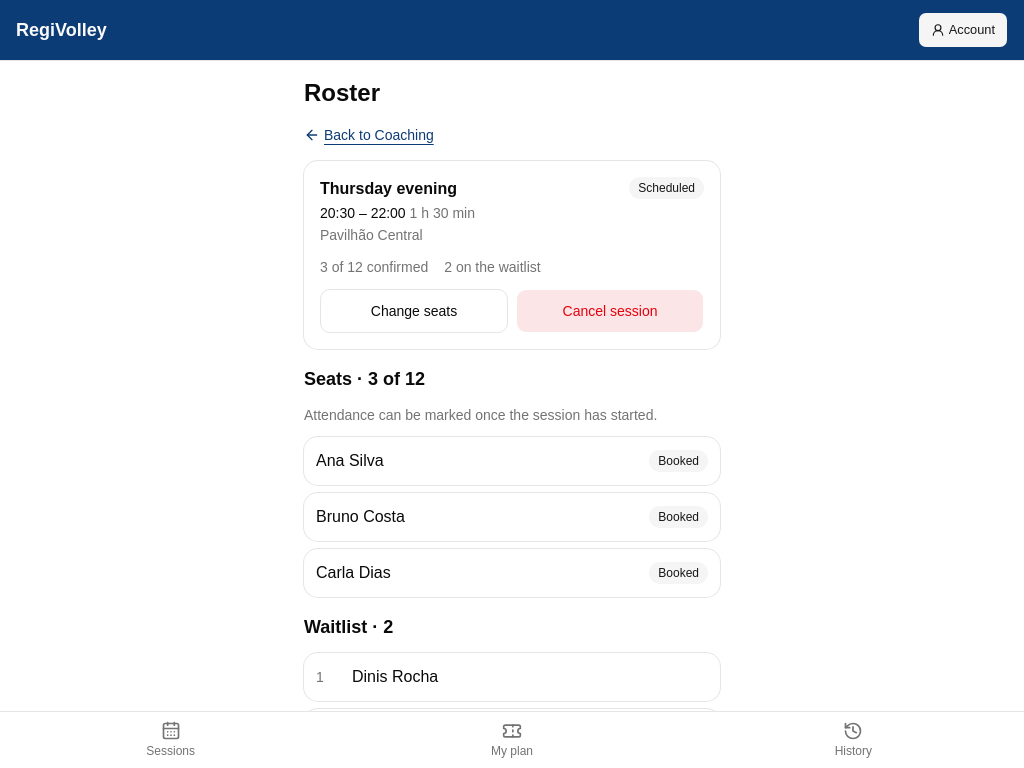
Scenario: staff actions from the roster › changes the seats and shows how many moved up
Click the button "Change seats" at (414, 311), box [320,289,508,333]
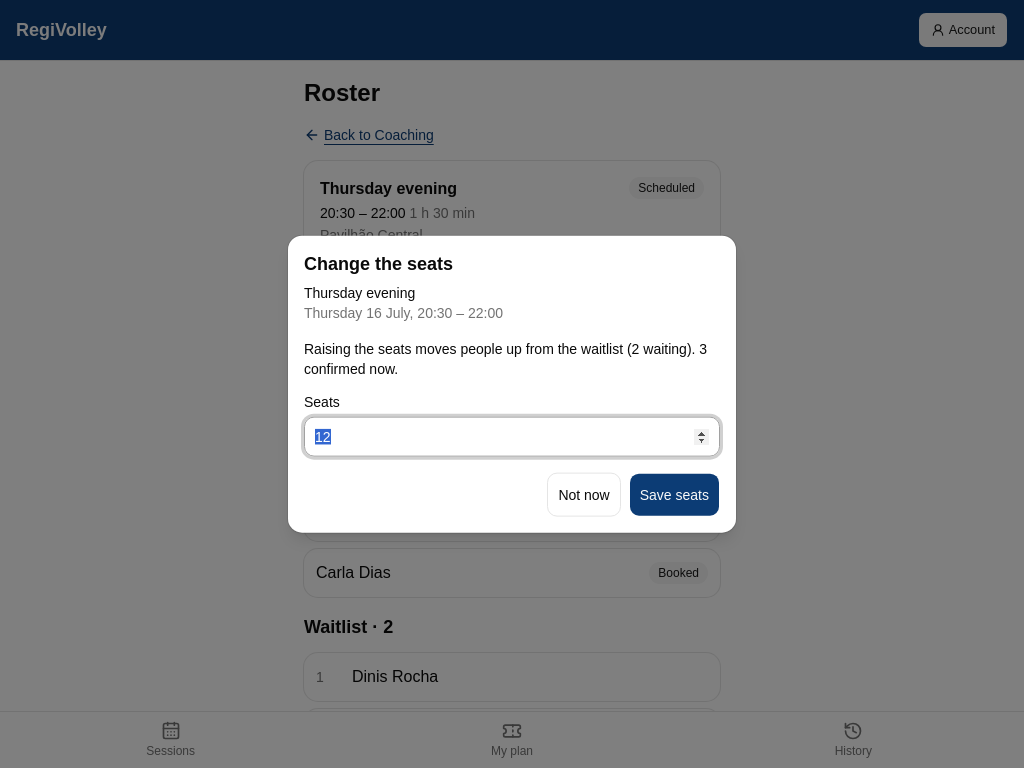
Replace the text in the number field labelled "Seats" with "14" at (512, 436), box [304,416,720,456]
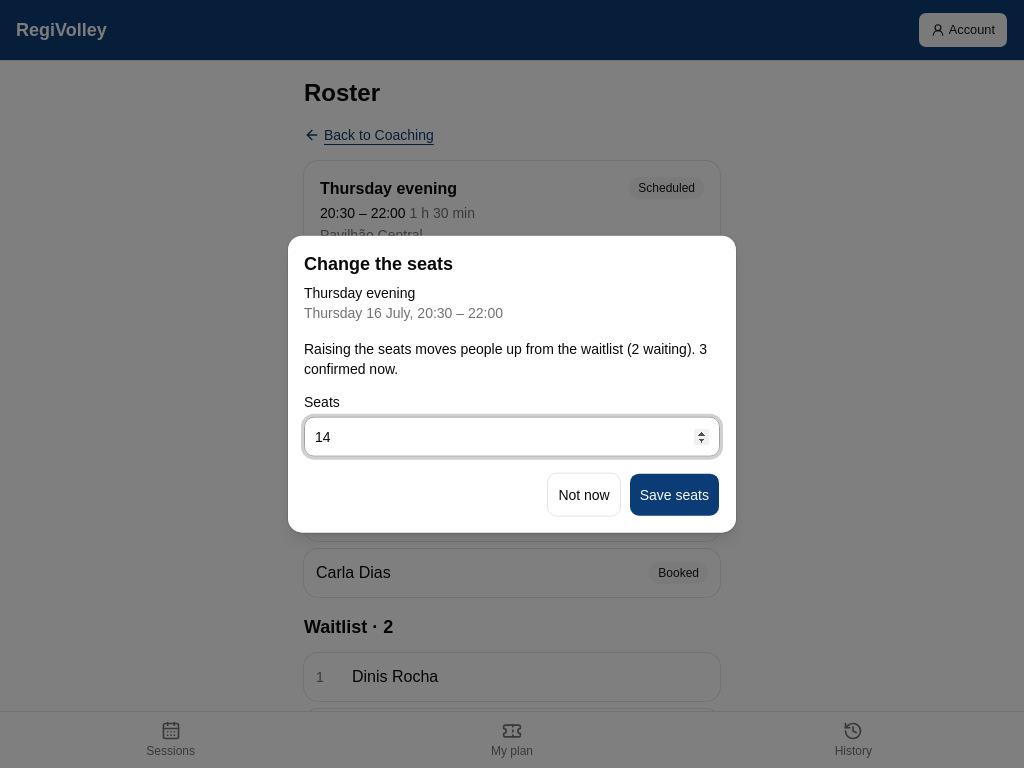
Click the button "Save seats" at (674, 494), box [629,472,720,516]
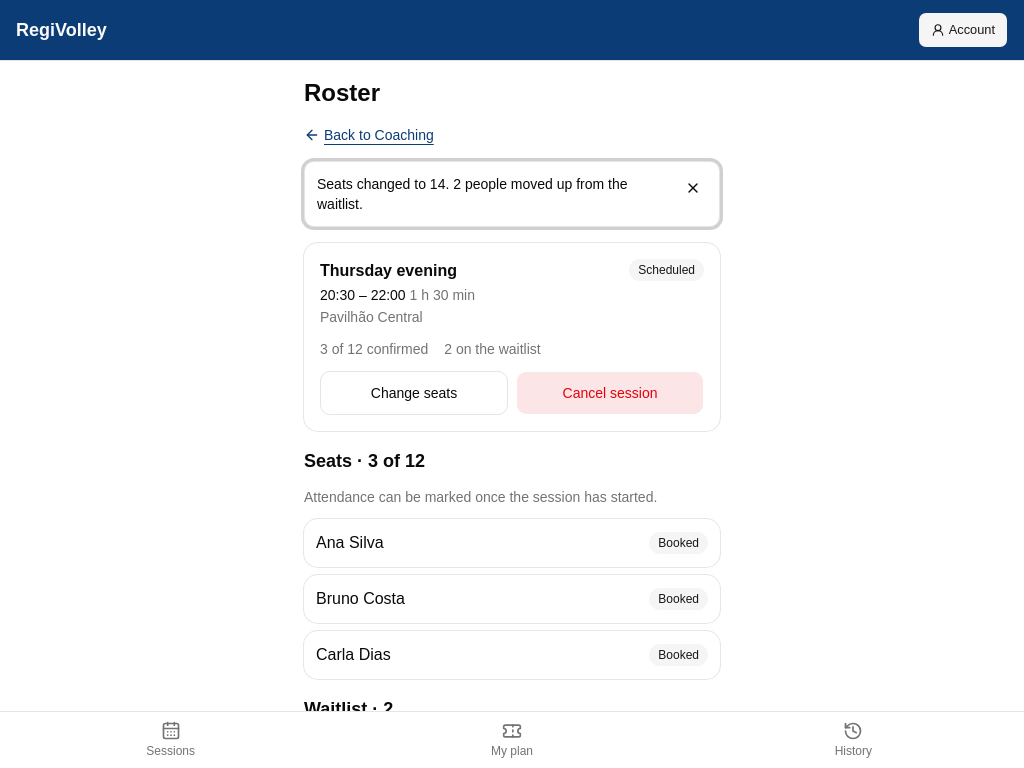
Result: the message reads "Seats changed to 14. 2 people moved up from the waitlist." at [317,176,628,212]
